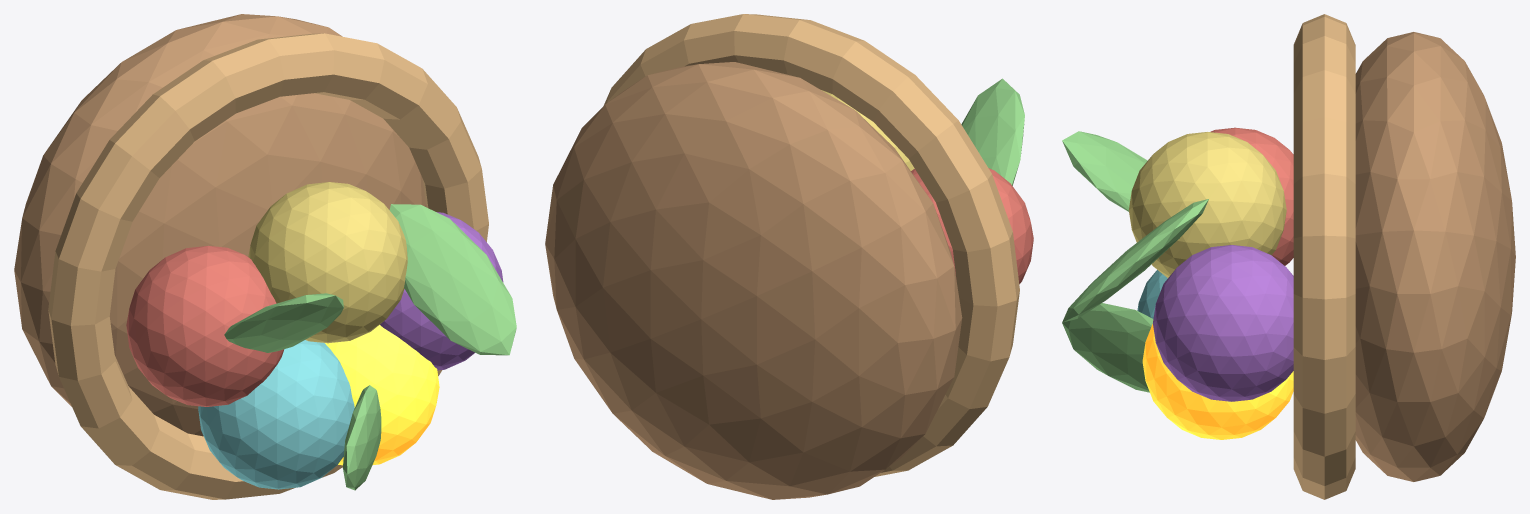
Rendered from fruit-bowl-4181.glb.
3 views of the same model, side by side, from view 1: azimuth 30°, elevation 25°; view 2: azimuth 150°, elevation 25°; view 3: azimuth 270°, elevation 25° (orthographic). The views are drawn at different scales.
Visible parts, largest first — view 1: rim, bowl, fruit0, fruit1, fruit4, leaf0, fruit3, leaf1, fruit2, leaf2; view 2: bowl, rim, leaf1, fruit0; view 3: bowl, rim, fruit2, fruit1, fruit3, leaf2, leaf0, leaf1, fruit0, fruit4.
Boxes of the visible parts, left/top/right/bottom form: rim: left=48, top=33, right=488, bottom=499; bowl: left=14, top=14, right=426, bottom=436; fruit0: left=126, top=245, right=284, bottom=406; fruit1: left=248, top=182, right=407, bottom=343; fruit4: left=198, top=340, right=354, bottom=489; leaf0: left=389, top=204, right=516, bottom=355; fruit3: left=325, top=325, right=439, bottom=465; leaf1: left=224, top=293, right=343, bottom=352; fruit2: left=380, top=212, right=503, bottom=370; leaf2: left=342, top=385, right=381, bottom=490; bowl: left=545, top=62, right=962, bottom=499; rim: left=603, top=14, right=1019, bottom=476; leaf1: left=961, top=78, right=1024, bottom=185; fruit0: left=911, top=168, right=1033, bottom=284; bowl: left=1355, top=32, right=1515, bottom=481; rim: left=1293, top=14, right=1355, bottom=499; fruit2: left=1153, top=245, right=1293, bottom=401; fruit1: left=1128, top=132, right=1286, bottom=277; fruit3: left=1142, top=324, right=1293, bottom=439; leaf2: left=1062, top=303, right=1153, bottom=392; leaf0: left=1062, top=199, right=1208, bottom=322; leaf1: left=1062, top=131, right=1147, bottom=211; fruit0: left=1210, top=127, right=1293, bottom=265; fruit4: left=1137, top=270, right=1167, bottom=318.
Bounding box in the file's own units: 2.7 × 2.7 × 2.51.
